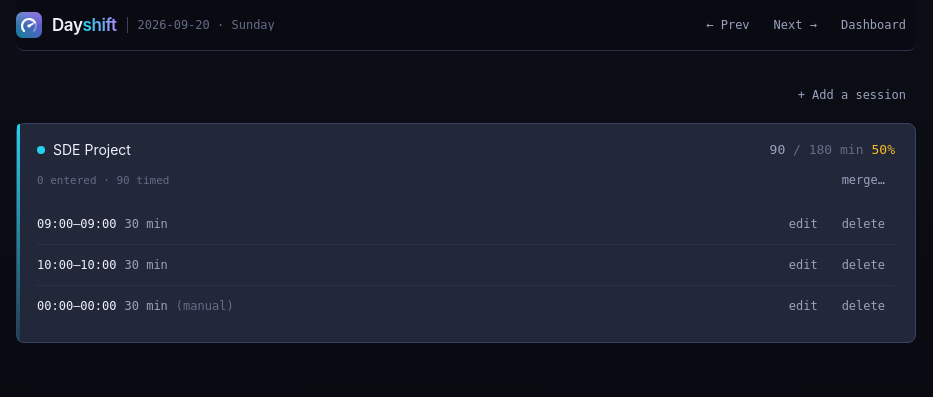
it: DayView merge mode › hides edit and delete while merging
The image size is (933, 397).
Click the button "merge…". click: coordinates (863, 180)
box: [832,168,895,192]
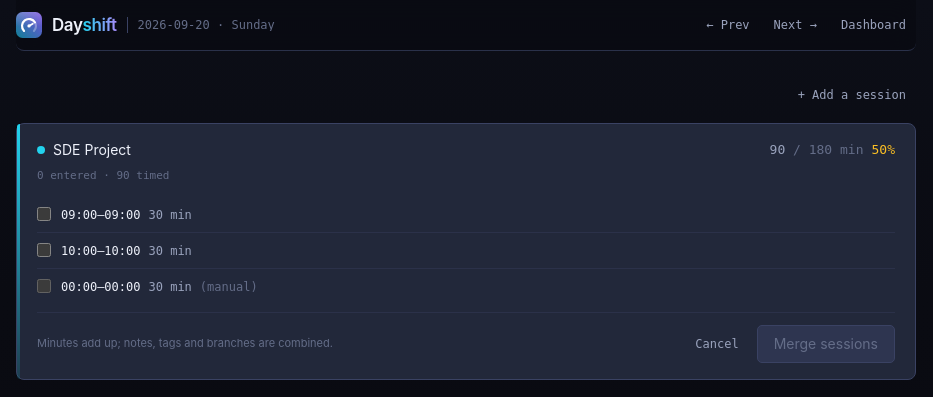
Check: the button "edit" is gone
Click the button "Cancel". click: coordinates (717, 344)
box: [685,332,749,356]
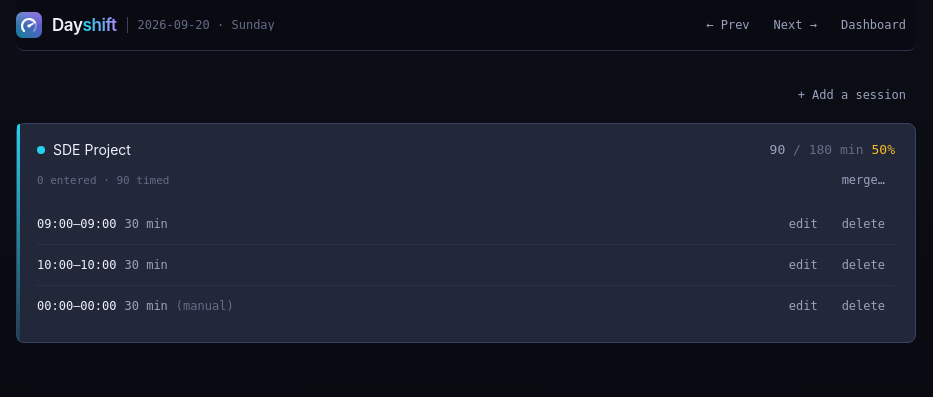
Check: the number of buttons "edit" is 3, box [779,212,828,236]; [779,253,828,277]; [779,294,828,318]
